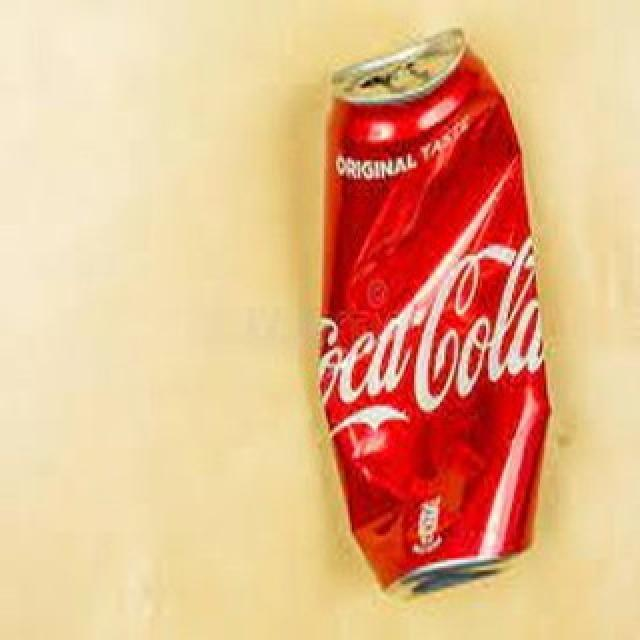kimloai: (316, 28, 553, 591)
